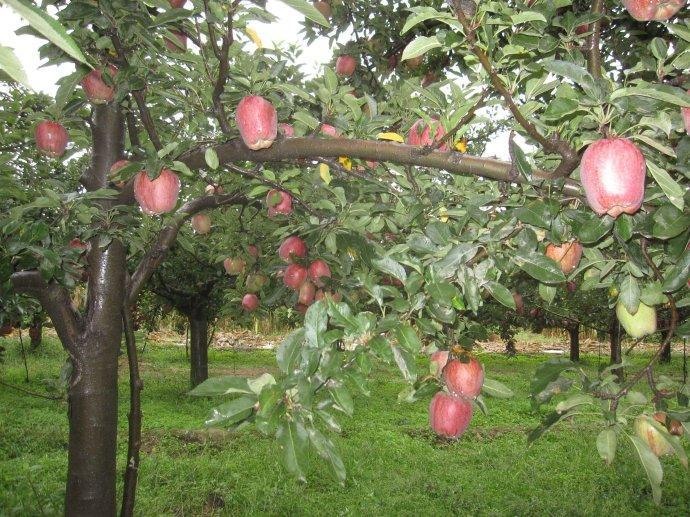apple: (580, 136, 646, 217), (235, 95, 281, 152), (134, 166, 181, 215), (429, 392, 472, 439), (447, 353, 486, 396), (82, 63, 120, 106), (36, 118, 69, 159), (333, 53, 355, 76)
